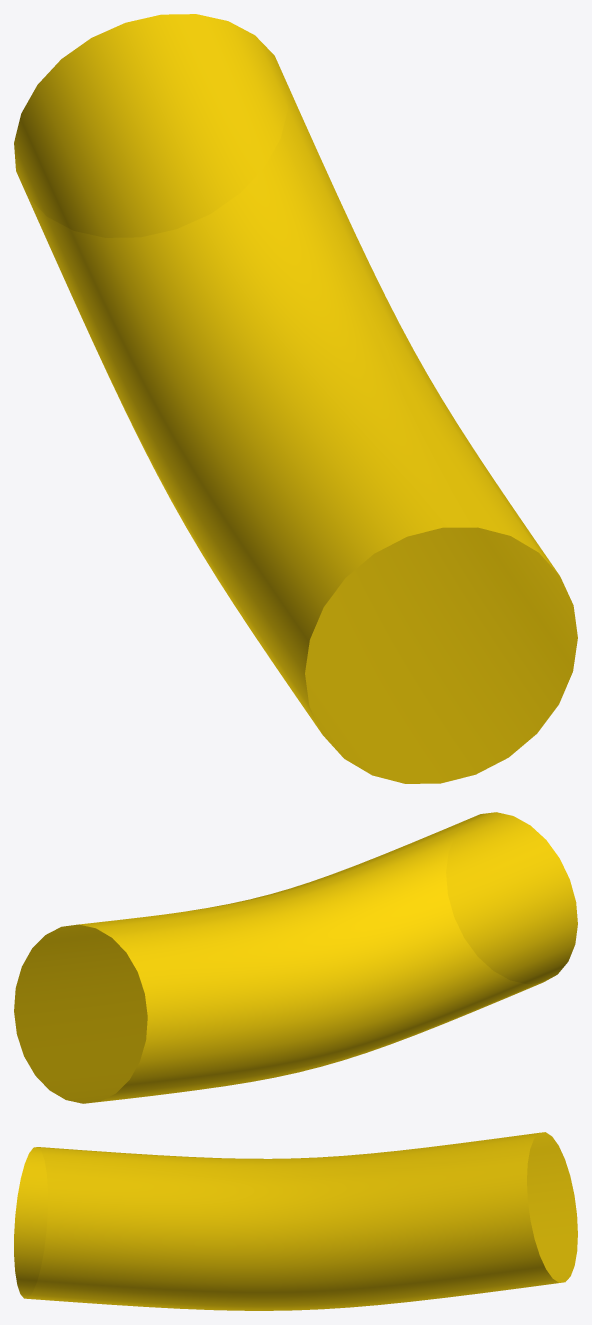
Rendered from Event_421115418_track_136.fbx.
The picture shows the model from 3 angles, top to bottom: view 1: azimuth 30°, elevation 25°; view 2: azimuth 150°, elevation 25°; view 3: azimuth 270°, elevation 25°; orthographic projection. The views are drawn at different scales.
Visible parts, largest first — view 1: Model; view 2: Model; view 3: Model.
Part boxes in pixels (x1,y1,x2,y2): Model: (14,14,577,783); Model: (14,812,577,1103); Model: (14,1132,577,1310).
Bounding box in the file's own units: 0.0708 × 0.0586 × 0.1476.
